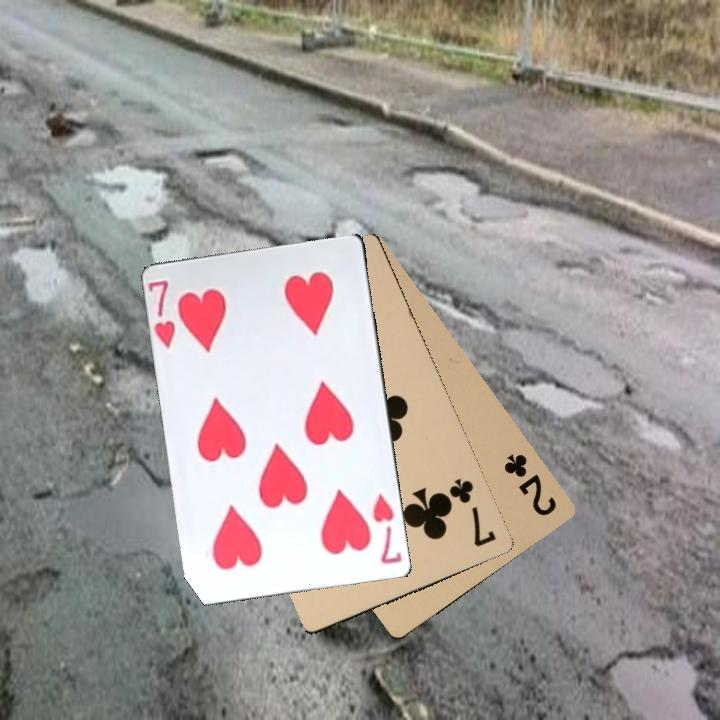2c: (499, 449, 559, 519)
7c: (444, 474, 499, 550)
7h: (368, 489, 405, 567), (145, 276, 178, 351)
